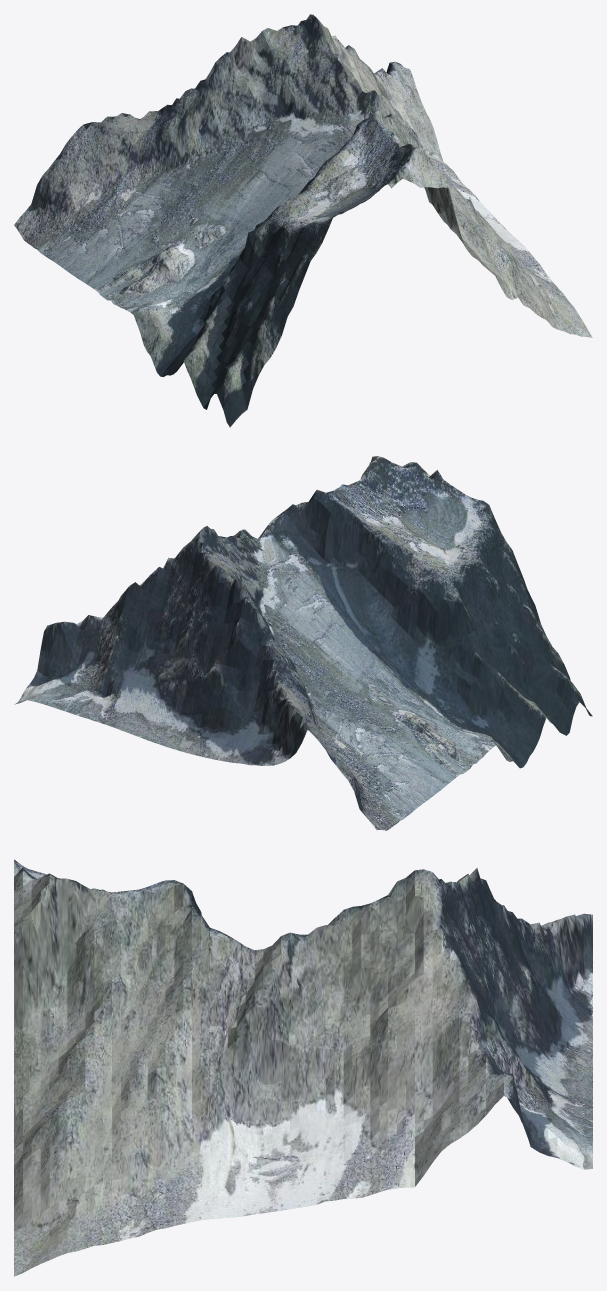
File: Silv_tile_28.gltf
The picture shows the model from 3 angles, top to bottom: view 1: azimuth 30°, elevation 25°; view 2: azimuth 150°, elevation 25°; view 3: azimuth 270°, elevation 25°; orthographic projection. The views are drawn at different scales.
Parts seen in each view (by area): view 1: 18.060; view 2: 18.060; view 3: 18.060.
Boxes of the visible parts, x1,y1,x2,y2 form: 18.060: [14, 14, 592, 427]; 18.060: [14, 456, 592, 830]; 18.060: [14, 859, 592, 1276].
Size of the model in its own units: 0.4922 by 0.3155 by 0.5078.
1 material, 1 textured.
